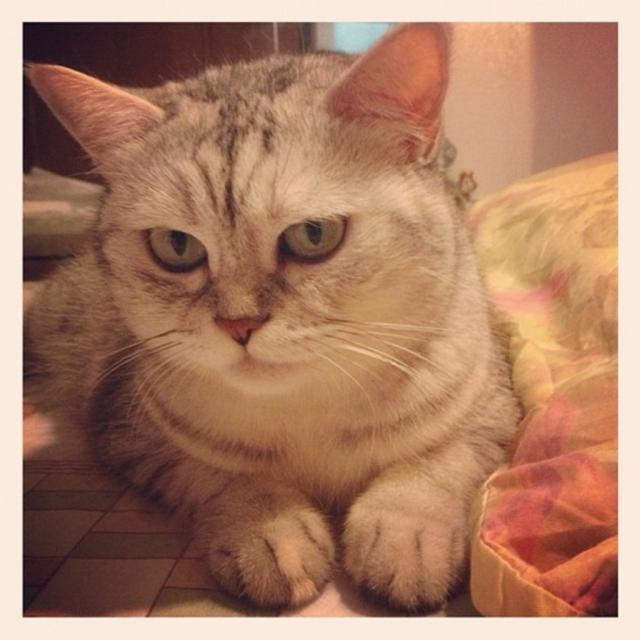Cat: (22, 22, 522, 609)
